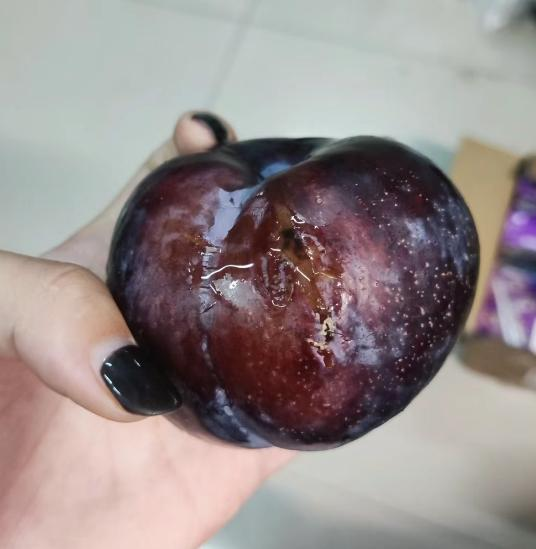plum_C: (105, 139, 481, 451)
